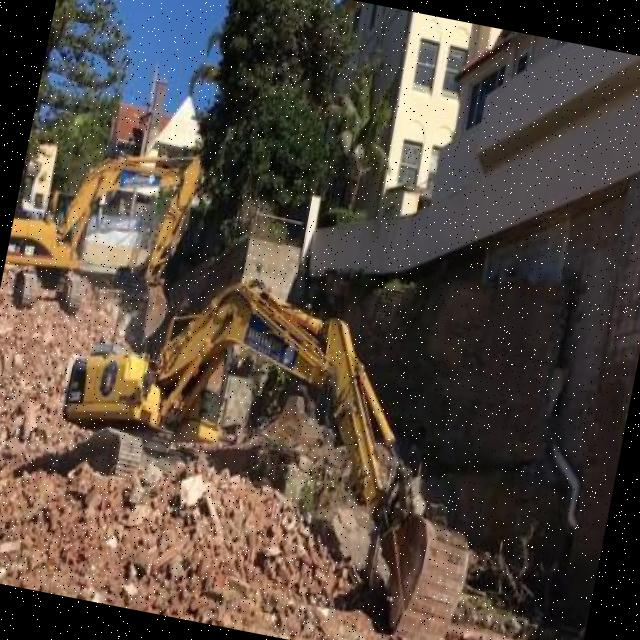Excavator: (28, 248, 515, 640), (0, 120, 203, 346)
